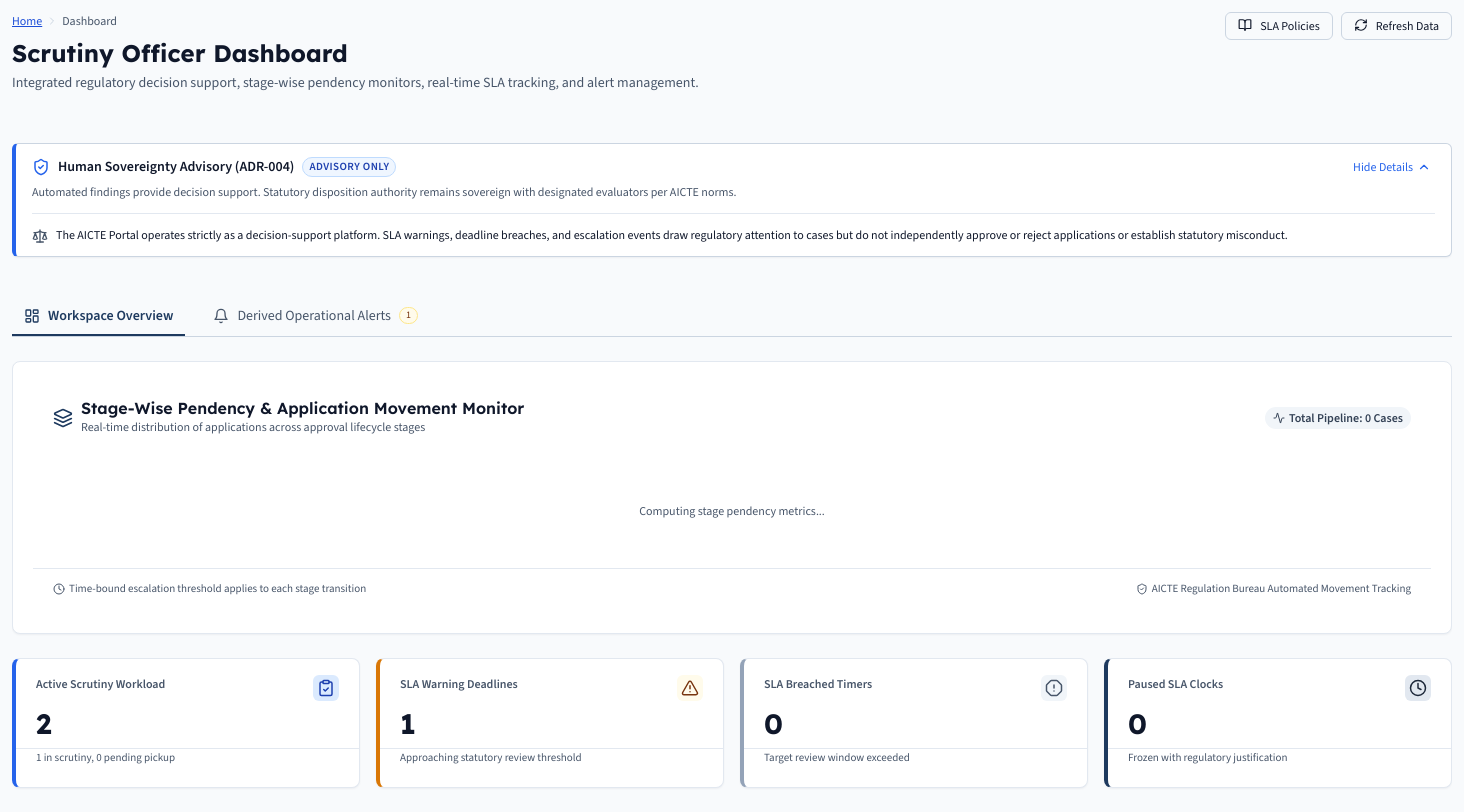
Test: DashboardPage & Role Dashboards (FE-05) › switches to Derived Operational Alerts tab and displays server alerts
Click the tab "Derived Operational Alerts 1". click: (316, 317)
box: [201, 297, 430, 336]
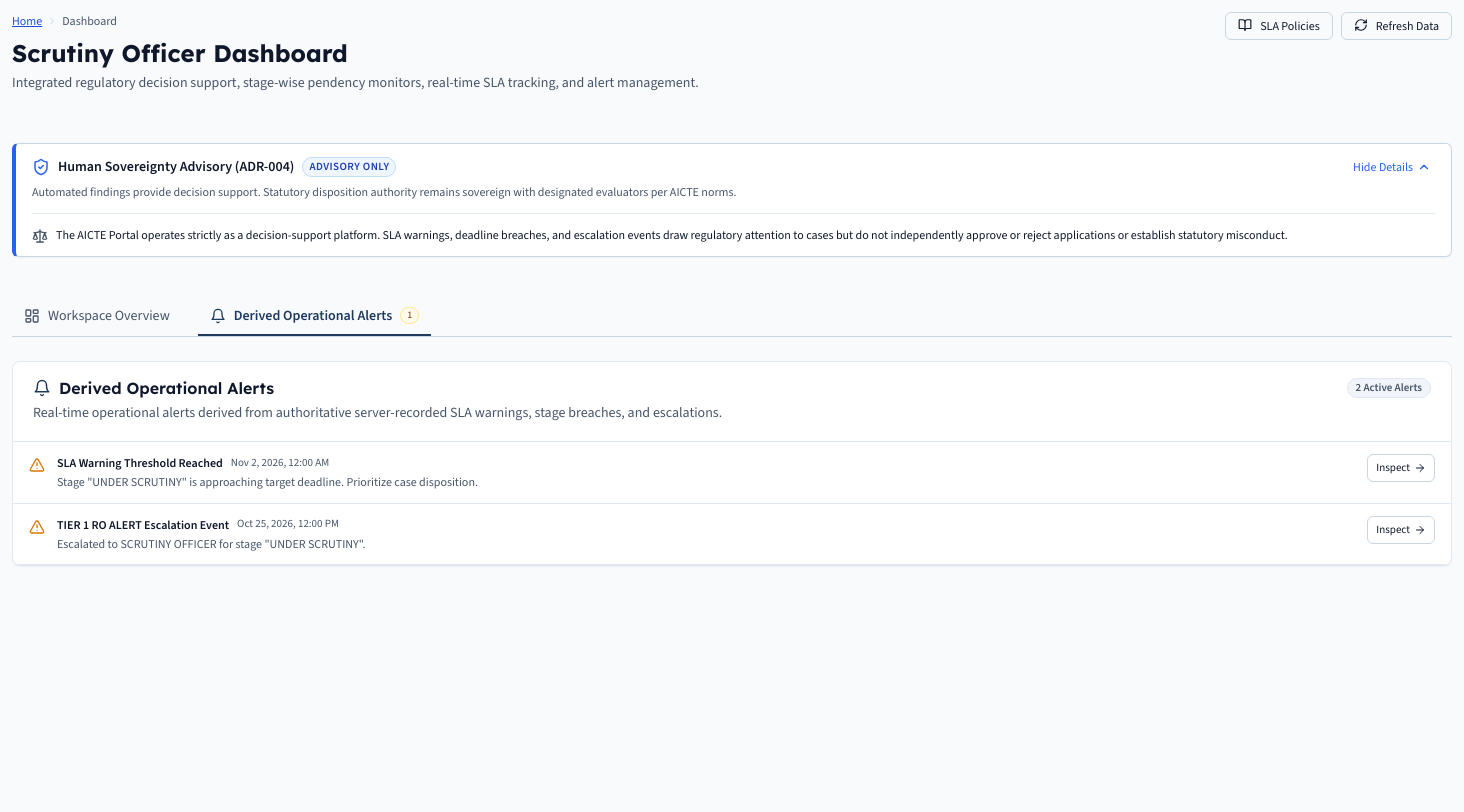
Expected: the heading "Derived Operational Alerts" is shown, [59, 378, 274, 398]
Expected: the text "TIER 1 RO ALERT Escalation Event" is shown, [57, 516, 229, 534]
